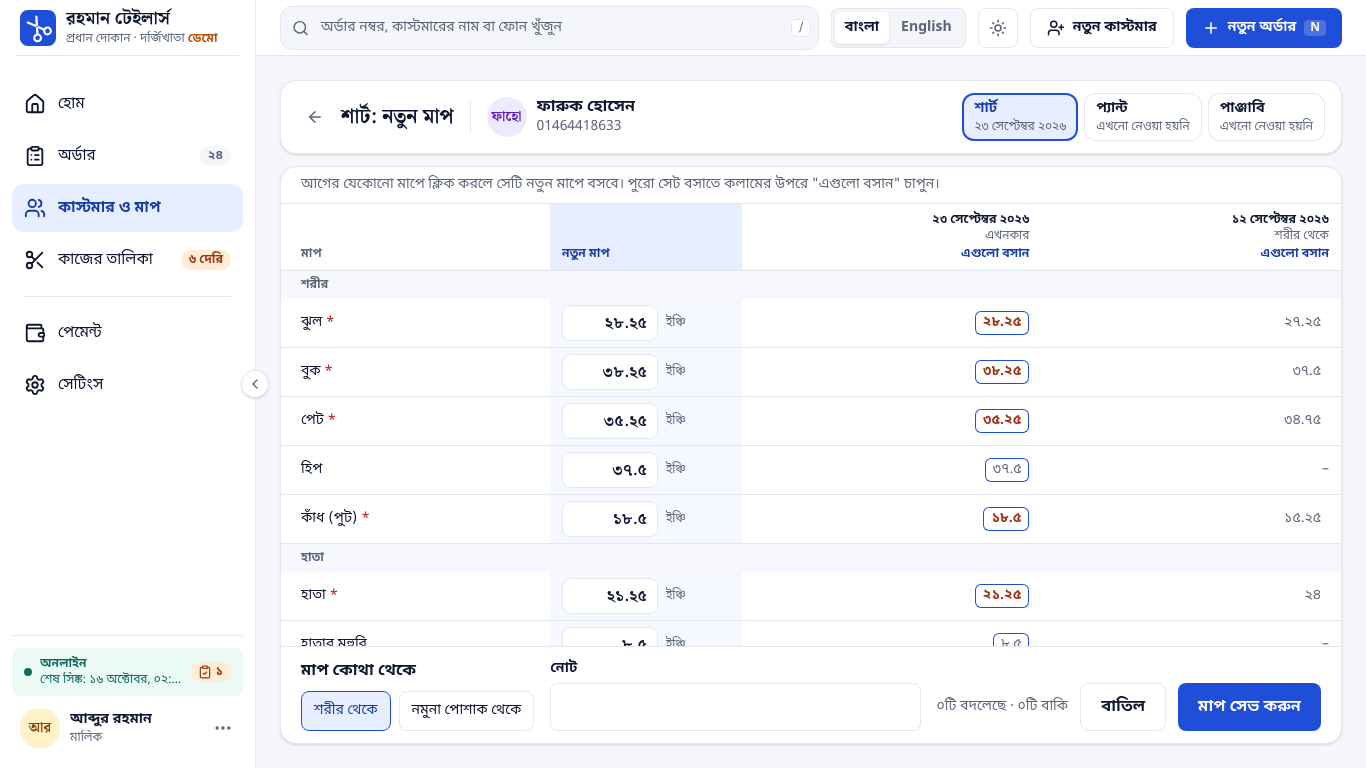
Desktop measurement form › switches garments from the bar, with the current one marked
The image size is (1366, 768).
Expected: the heading "শার্ট: নতুন মাপ" is shown, [341,103,454,131]
Expected: the link "শার্ট ২৩ সেপ্টেম্বর ২০২৬" is shown, [962,93,1078,141]
Click the link "প্যান্ট এখনো নেওয়া হয়নি".
click(1143, 117)  # box [1084,93,1202,141]
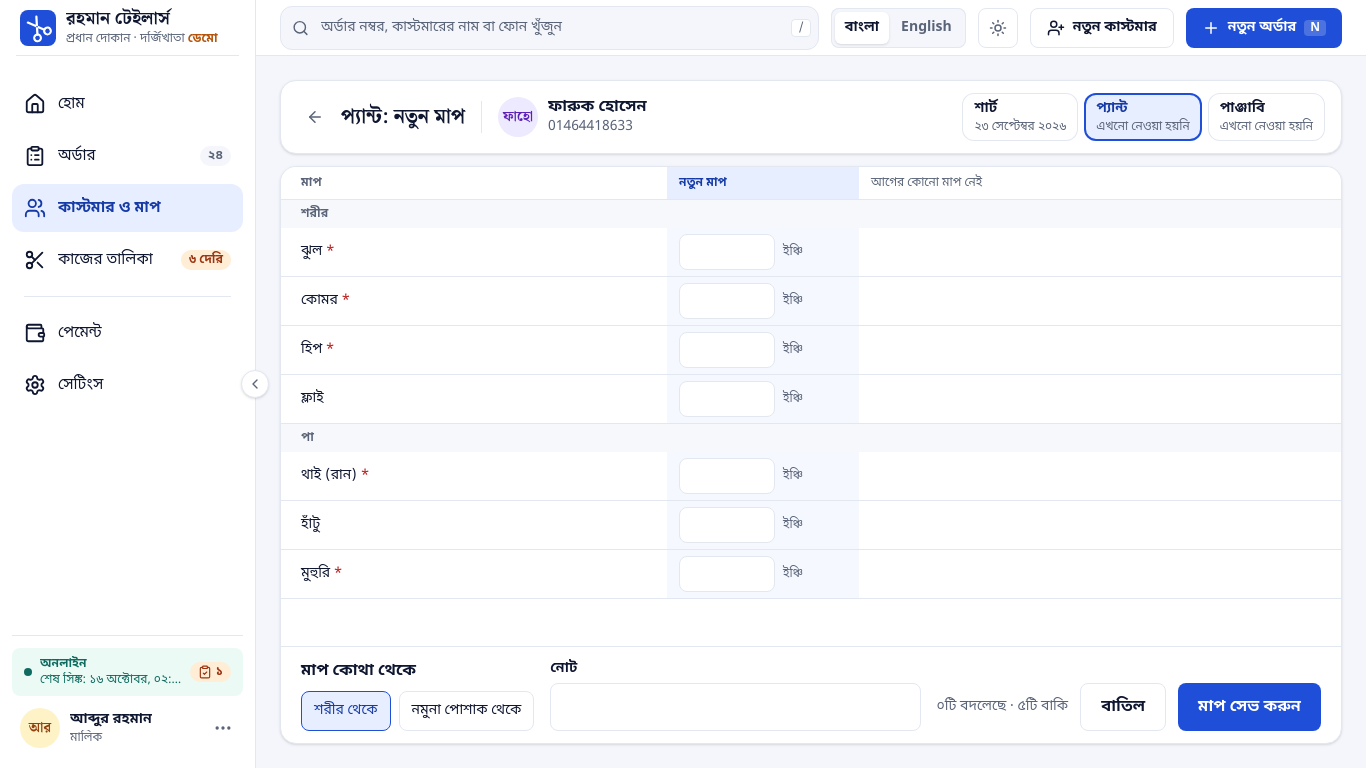
Now the heading "প্যান্ট: নতুন মাপ" is shown, box [341,103,465,131]
